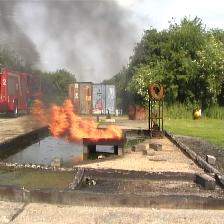fire: (30, 100, 122, 143)
